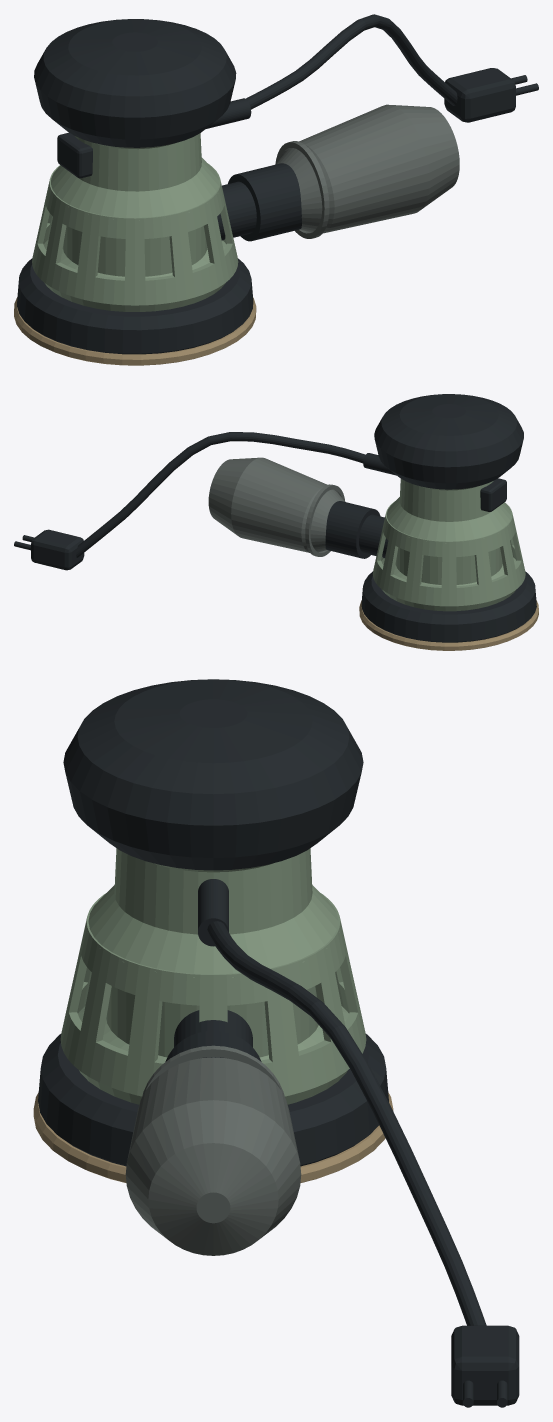
File: full.glb
The picture shows the model from 3 angles, top to bottom: view 1: azimuth 30°, elevation 25°; view 2: azimuth 150°, elevation 25°; view 3: azimuth 270°, elevation 25°; orthographic projection. The views are drawn at different scales.
Visible parts, largest first — view 1: Broad rounded padded palm cap, Closed generic cloth collection bag, Motor core and narrow waist, Lower body with twelve open vents, Round pad and backing, Dustbag connector collar, Complete authored cable, Nominal127mm abrasive disk, Generic cable plug, Lower hollow dust port, Small supported side switch, Bag connector seam (+1 smaller); view 2: Broad rounded padded palm cap, Closed generic cloth collection bag, Motor core and narrow waist, Lower body with twelve open vents, Round pad and backing, Complete authored cable, Dustbag connector collar, Nominal127mm abrasive disk, Generic cable plug, Lower hollow dust port, Small supported side switch, Bag connector seam (+1 smaller); view 3: Broad rounded padded palm cap, Closed generic cloth collection bag, Motor core and narrow waist, Lower body with twelve open vents, Round pad and backing, Complete authored cable, Generic cable plug, Nominal127mm abrasive disk, High rear cord strain relief, Bag connector seam, Lower hollow dust port, Dustbag connector collar.
Boxes of the visible parts, <box> form: Broad rounded padded palm cap: <box>34,19,236,147</box>; Closed generic cloth collection bag: <box>276,104,459,233</box>; Motor core and narrow waist: <box>43,133,226,311</box>; Lower body with twelve open vents: <box>32,163,238,305</box>; Round pad and backing: <box>17,258,253,354</box>; Dustbag connector collar: <box>228,163,301,241</box>; Complete authored cable: <box>246,14,457,109</box>; Nominal127mm abrasive disk: <box>14,297,256,365</box>; Generic cable plug: <box>444,68,515,122</box>; Lower hollow dust port: <box>217,181,256,240</box>; Small supported side switch: <box>57,132,92,178</box>; Bag connector seam: <box>275,141,329,238</box>; Broad rounded padded palm cap: <box>374,394,523,489</box>; Closed generic cloth collection bag: <box>208,457,344,552</box>; Motor core and narrow waist: <box>381,479,516,611</box>; Lower body with twelve open vents: <box>372,501,525,606</box>; Round pad and backing: <box>361,571,536,642</box>; Complete authored cable: <box>76,432,365,557</box>; Dustbag connector collar: <box>325,501,380,558</box>; Nominal127mm abrasive disk: <box>359,600,538,650</box>; Generic cable plug: <box>31,529,84,570</box>; Lower hollow dust port: <box>359,514,388,558</box>; Small supported side switch: <box>480,478,506,511</box>; Bag connector seam: <box>305,484,345,556</box>; Broad rounded padded palm cap: <box>63,679,363,870</box>; Closed generic cloth collection bag: <box>125,1057,301,1255</box>; Motor core and narrow waist: <box>78,848,348,1104</box>; Lower body with twelve open vents: <box>60,893,366,1096</box>; Round pad and backing: <box>38,1034,388,1166</box>; Complete authored cable: <box>207,921,486,1325</box>; Generic cable plug: <box>451,1325,519,1405</box>; Nominal127mm abrasive disk: <box>33,1092,393,1183</box>; High rear cord strain relief: <box>198,879,228,946</box>; Bag connector seam: <box>142,1045,284,1096</box>; Lower hollow dust port: <box>174,1010,252,1047</box>; Dustbag connector collar: <box>165,1030,261,1061</box>.
Size of the model in its own units: 0.3585 by 0.158 by 0.1715.
